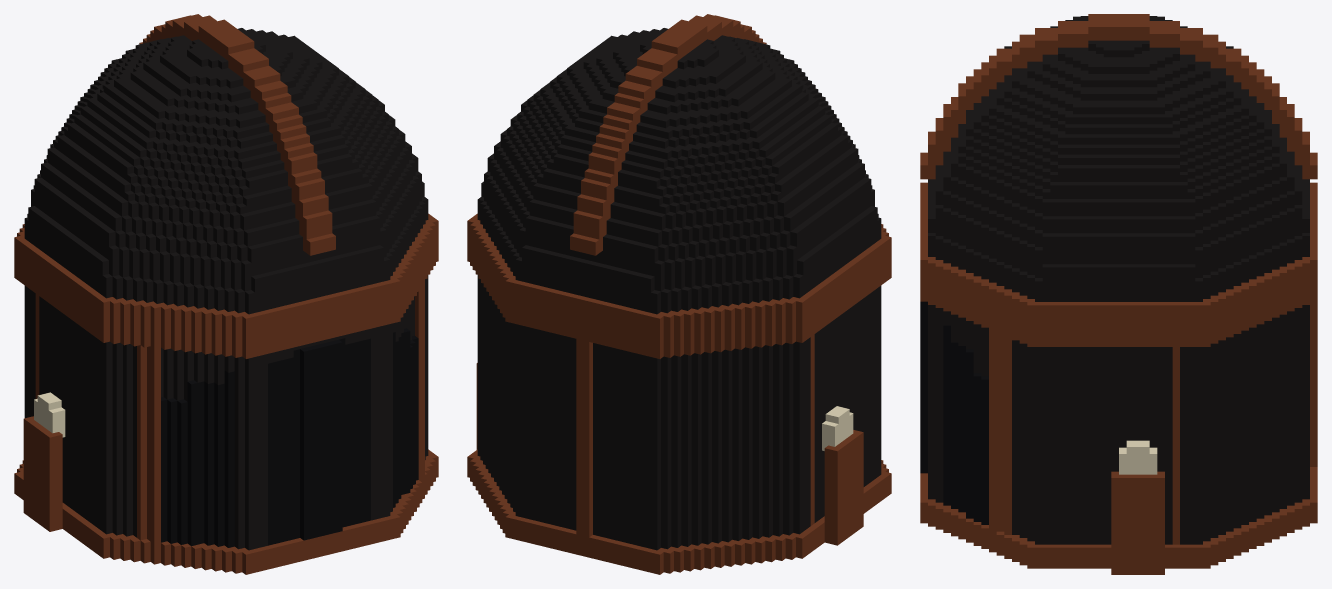
The model's file is helmet_black_dragon_hide.glb.
3 views of the same model, side by side, from view 1: azimuth 30°, elevation 25°; view 2: azimuth 150°, elevation 25°; view 3: azimuth 270°, elevation 25° (orthographic). The views are drawn at different scales.
Parts seen in each view (by area): view 1: helmet_black_dragon_hide:compound; view 2: helmet_black_dragon_hide:compound; view 3: helmet_black_dragon_hide:compound.
Part boxes in pixels (x1,y1,x2,y2): helmet_black_dragon_hide:compound: (14,14,438,574); helmet_black_dragon_hide:compound: (467,14,891,574); helmet_black_dragon_hide:compound: (920,14,1317,574).
Size of the model in its own units: 0.224 by 0.268 by 0.208.
